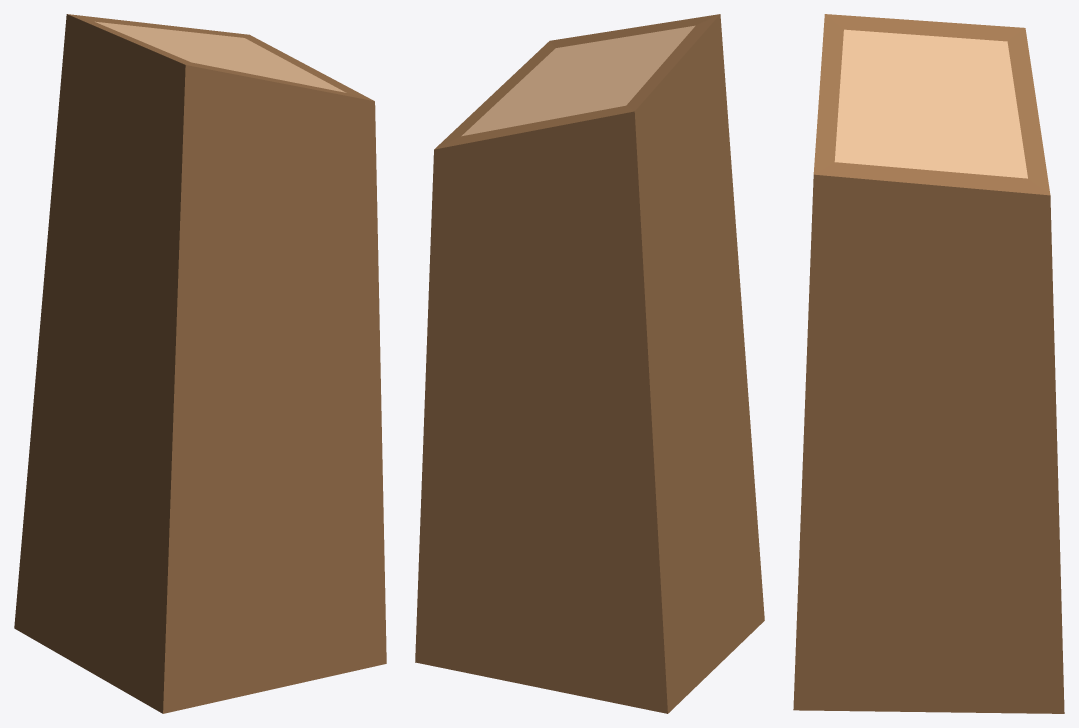
Rendered from Pine_Stump_04_LOD.fbx.
3 renders of one model, left to right at view 1: azimuth 30°, elevation 25°; view 2: azimuth 150°, elevation 25°; view 3: azimuth 270°, elevation 25°, orthographic. The views are drawn at different scales.
Parts seen in each view (by area): view 1: Pine_Stump_04_LOD0; view 2: Pine_Stump_04_LOD0; view 3: Pine_Stump_04_LOD0.
Boxes of the visible parts, left/top/right/bottom form: Pine_Stump_04_LOD0: left=14, top=14, right=386, bottom=713; Pine_Stump_04_LOD0: left=415, top=14, right=764, bottom=713; Pine_Stump_04_LOD0: left=793, top=14, right=1064, bottom=713.
Size of what is drawn, in the model's own units: 24.73 by 59.29 by 23.91.
